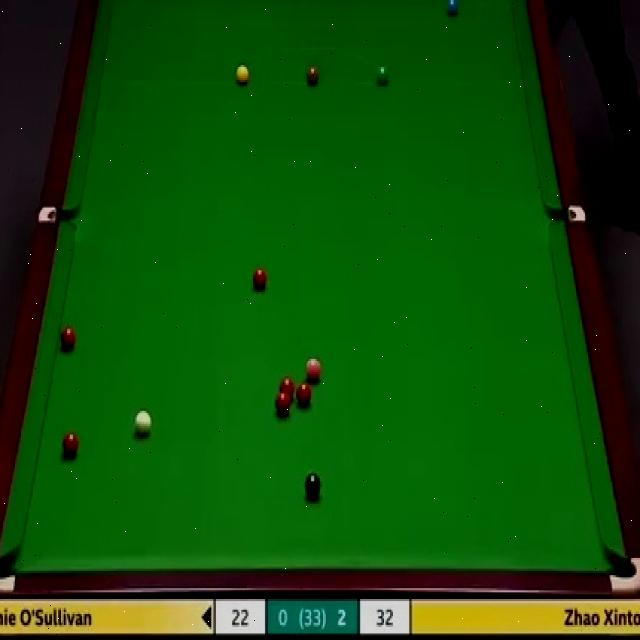black-ball: (303, 473, 321, 501)
blue-ball: (443, 0, 459, 17)
brown-ball: (306, 66, 320, 88)
green-ball: (375, 65, 390, 88)
pink-ball: (302, 357, 322, 384)
red-ball: (61, 430, 80, 460), (274, 392, 292, 418), (251, 266, 269, 292), (295, 381, 313, 406), (59, 325, 75, 352), (278, 377, 296, 400)
white-ball: (133, 407, 153, 438)
yellow-ball: (236, 64, 250, 87)
